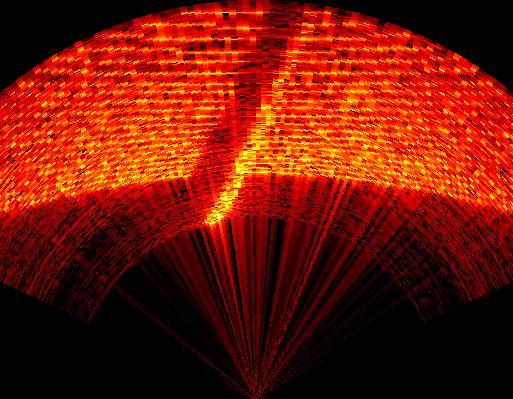pipe: (180, 2, 316, 218)
